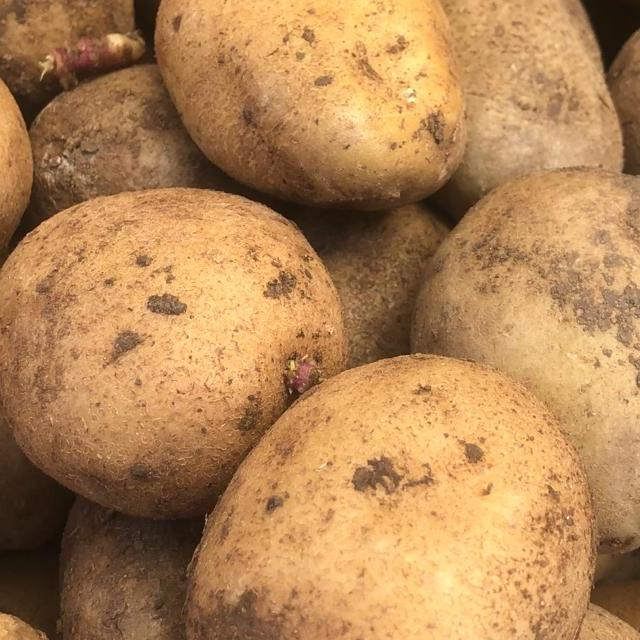potato: (195, 335, 630, 640), (0, 185, 387, 520), (127, 0, 505, 222)
